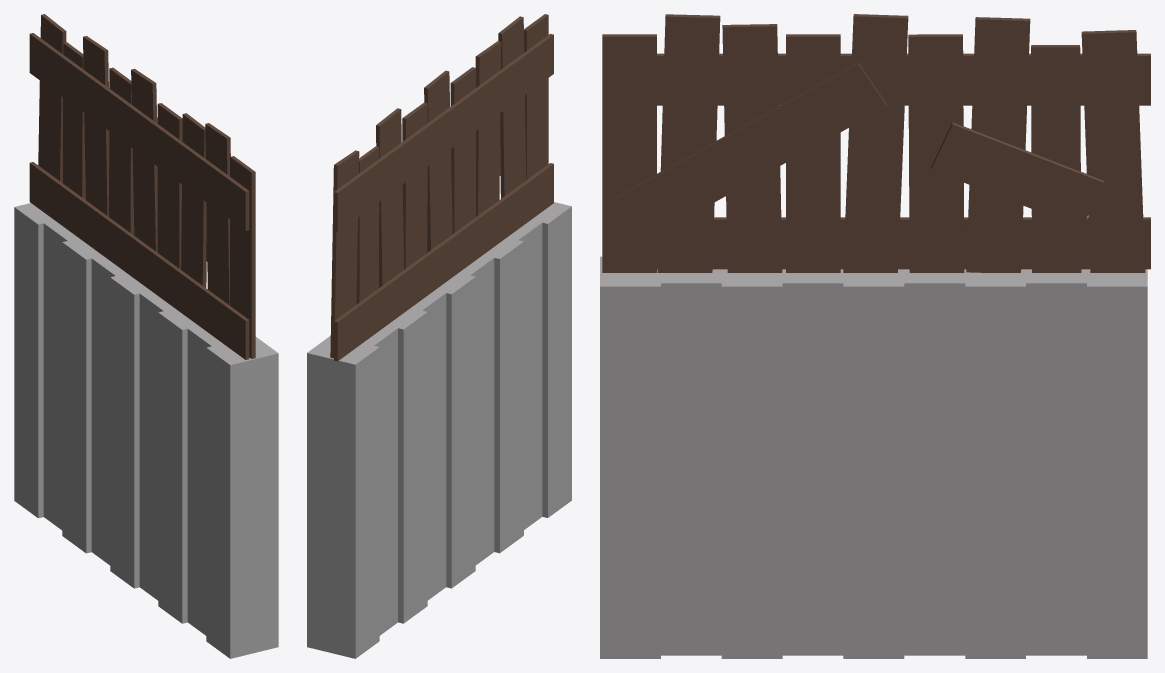
Rendered from SiteWall.fbx.
The picture shows the model from 3 angles, left to right: view 1: azimuth 30°, elevation 25°; view 2: azimuth 150°, elevation 25°; view 3: azimuth 270°, elevation 25°; orthographic projection. The views are drawn at different scales.
Parts seen in each view (by area): view 1: Cube; view 2: Cube; view 3: Cube.
Boxes of the visible parts, x1,y1,x2,y2 form: Cube: (14,14,278,658); Cube: (307,14,571,658); Cube: (600,14,1150,658).
Size of the model in its own units: 25.89 by 253 by 201.
